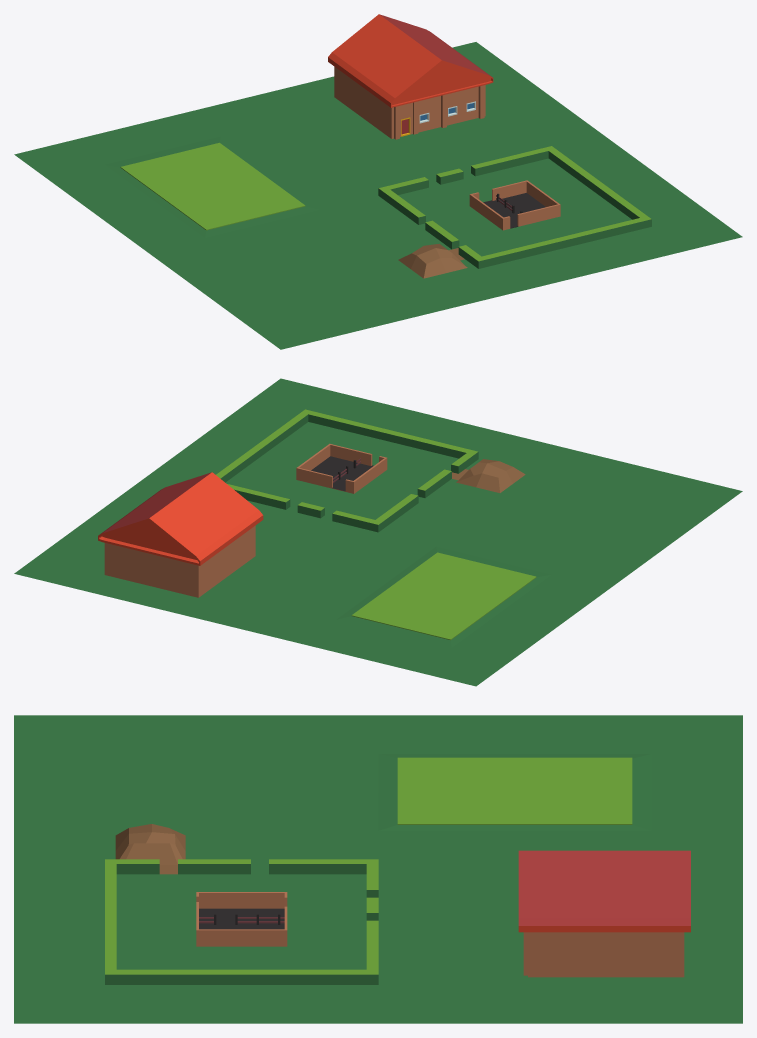
File: farm_land.gltf
The picture shows the model from 3 angles, top to bottom: view 1: azimuth 30°, elevation 25°; view 2: azimuth 150°, elevation 25°; view 3: azimuth 270°, elevation 25°; orthographic projection. The views are drawn at different scales.
Visible parts, largest first — view 1: farm_land, farm_house, farm_field, farm_stable; view 2: farm_land, farm_house, farm_field, farm_stable; view 3: farm_land, farm_house, farm_field, farm_stable.
Part boxes in pixels (x1=…): farm_land: x1=14, y1=42, x2=742, y2=349; farm_house: x1=328, y1=14, x2=493, y2=139; farm_field: x1=120, y1=142, x2=305, y2=230; farm_stable: x1=469, y1=180, x2=560, y2=230; farm_land: x1=14, y1=378, x2=742, y2=686; farm_house: x1=98, y1=472, x2=263, y2=597; farm_field: x1=351, y1=552, x2=536, y2=640; farm_stable: x1=296, y1=443, x2=387, y2=493; farm_land: x1=14, y1=715, x2=742, y2=1023; farm_house: x1=518, y1=850, x2=690, y2=977; farm_field: x1=397, y1=757, x2=632, y2=824; farm_stable: x1=196, y1=892, x2=287, y2=946.
Size of the model in its own units: 128 by 22.05 by 128.
Materials: 1 (1 with a texture image).
